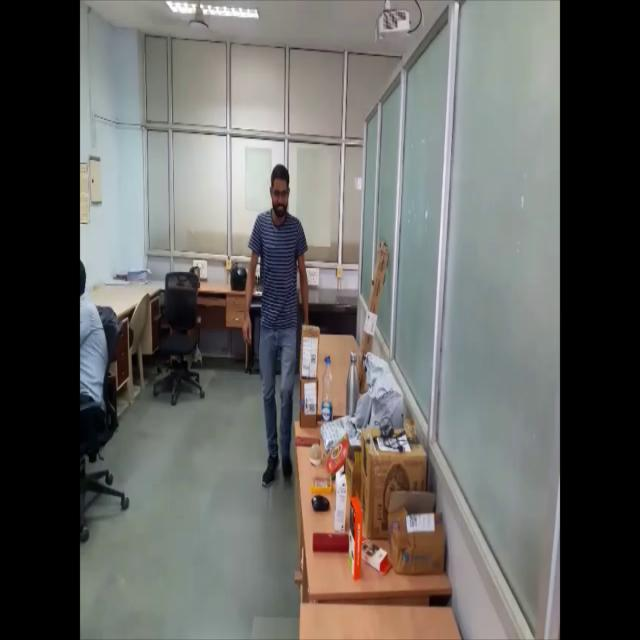normal: (240, 162, 310, 487)
